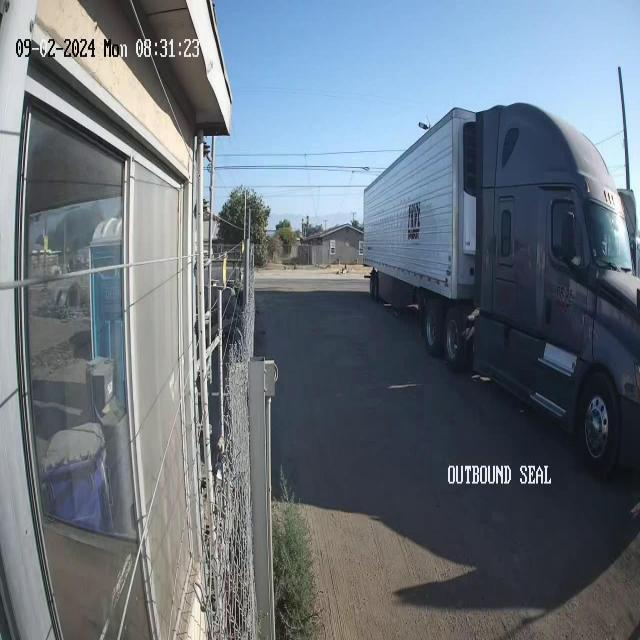TRUCK_IN: (362, 101, 639, 479)
